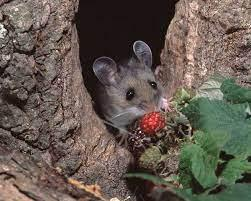rat: (92, 40, 173, 146)
